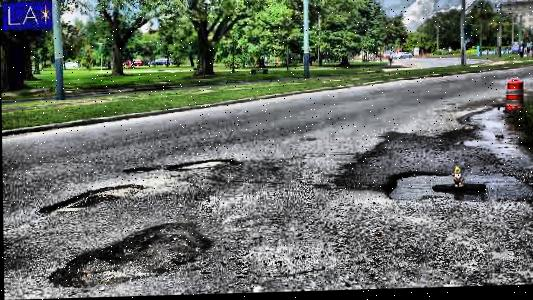pothole: (46, 221, 212, 292), (379, 168, 533, 210), (37, 183, 145, 215), (165, 159, 234, 170), (121, 166, 155, 174)
